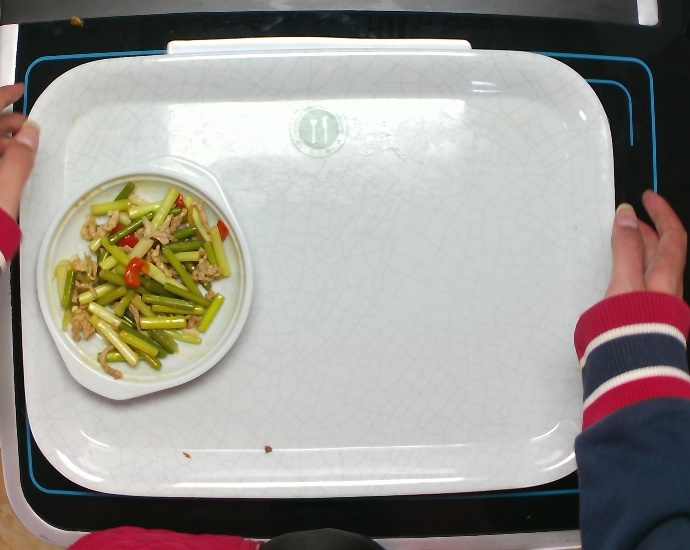JYsf-Shuang_Er_Pan: (32, 143, 258, 402)
